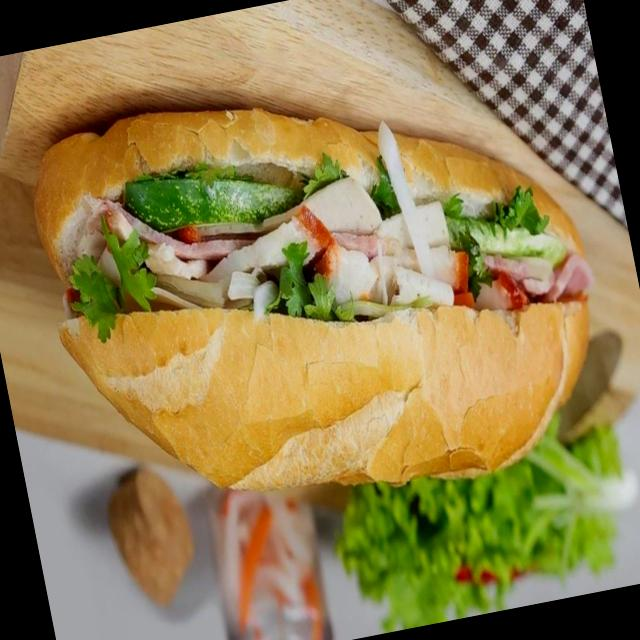banh mi: (35, 108, 592, 490)
